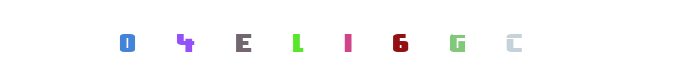0: (87, 0, 167, 80)
4: (145, 0, 225, 80)
6: (352, 0, 432, 80)
C: (409, 0, 489, 80)
E: (202, 0, 282, 80)
G: (359, 0, 439, 80)
I: (313, 0, 393, 80)
L: (300, 0, 380, 80)
